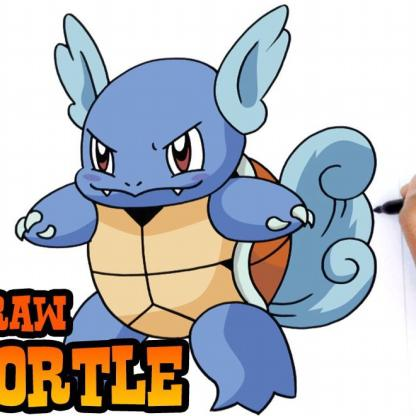Wartortle: (8, 1, 383, 296)
